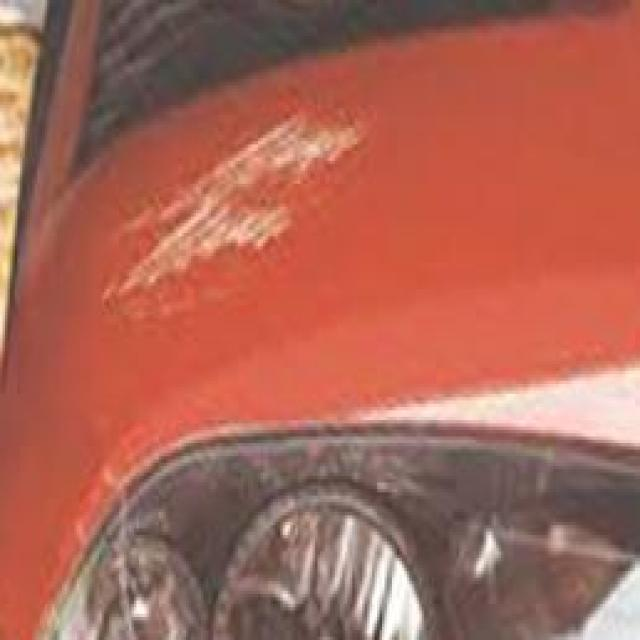scratch: (82, 84, 380, 330)
